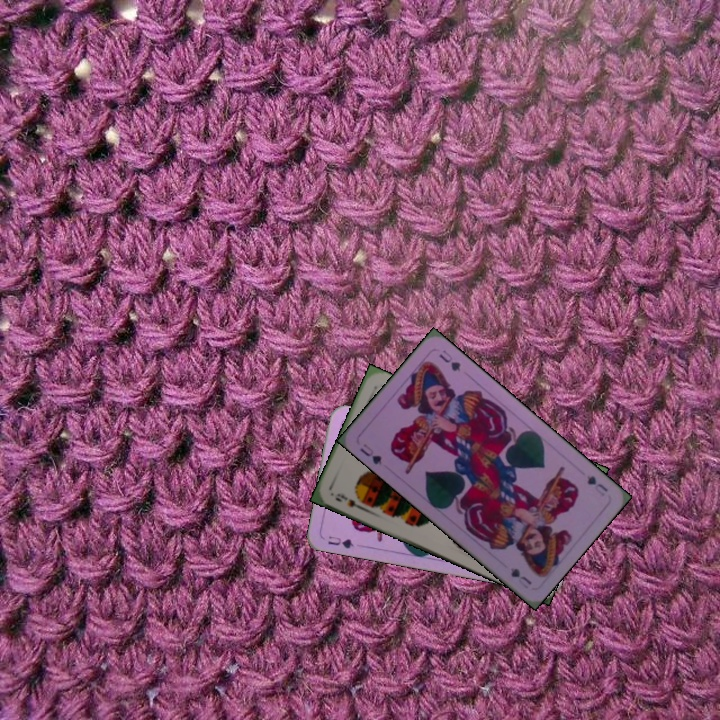GU: (355, 439, 385, 467), (583, 471, 611, 499), (324, 532, 357, 551)
S9: (331, 489, 367, 513)
